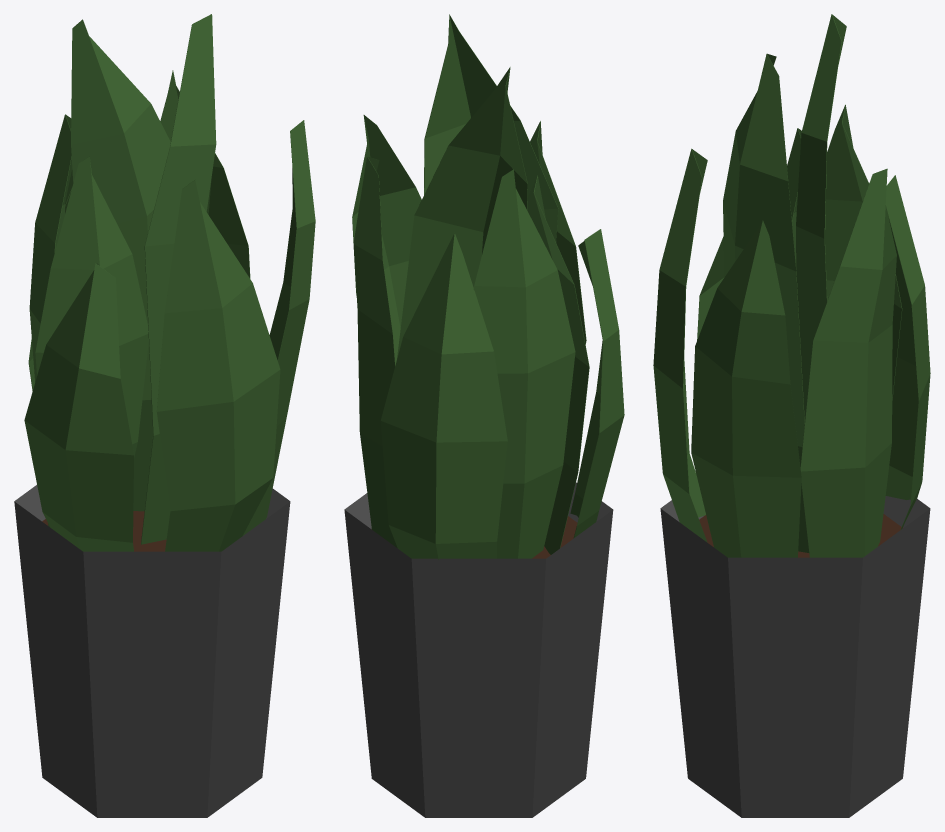
File: Flower Pot-FNqGPLKY0V.glb
The picture shows the model from 3 angles, left to right: view 1: azimuth 30°, elevation 25°; view 2: azimuth 150°, elevation 25°; view 3: azimuth 270°, elevation 25°; orthographic projection. The views are drawn at different scales.
Visible parts, largest first — view 1: FlowerPot8; view 2: FlowerPot8; view 3: FlowerPot8.
Boxes of the visible parts, left/top/right/bottom form: FlowerPot8: left=14, top=14, right=315, bottom=817; FlowerPot8: left=344, top=14, right=624, bottom=817; FlowerPot8: left=653, top=14, right=930, bottom=817.
Bounding box in the file's own units: 0.5989 × 1.67 × 0.5617.
